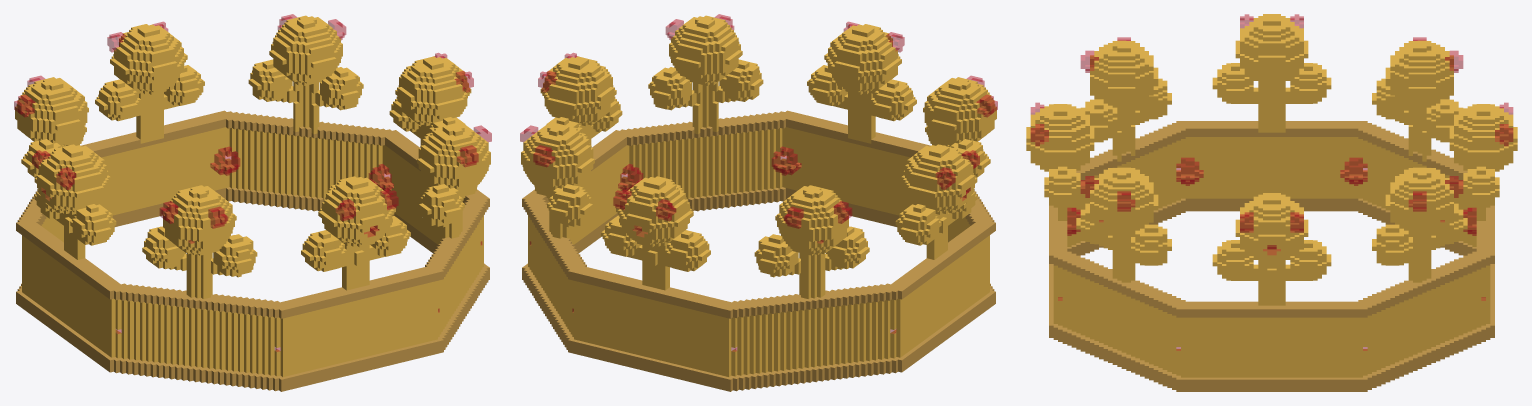
File: crown_golden.glb
The picture shows the model from 3 angles, left to right: view 1: azimuth 30°, elevation 25°; view 2: azimuth 150°, elevation 25°; view 3: azimuth 270°, elevation 25°; orthographic projection.
Visible parts, largest first — view 1: crown_golden:compound; view 2: crown_golden:compound; view 3: crown_golden:compound.
Boxes of the visible parts, x1,y1,x2,y2 form: crown_golden:compound: [14, 14, 491, 391]; crown_golden:compound: [520, 14, 997, 391]; crown_golden:compound: [1026, 14, 1517, 391].
Bounding box in the file's own units: 0.216 × 0.092 × 0.216.
